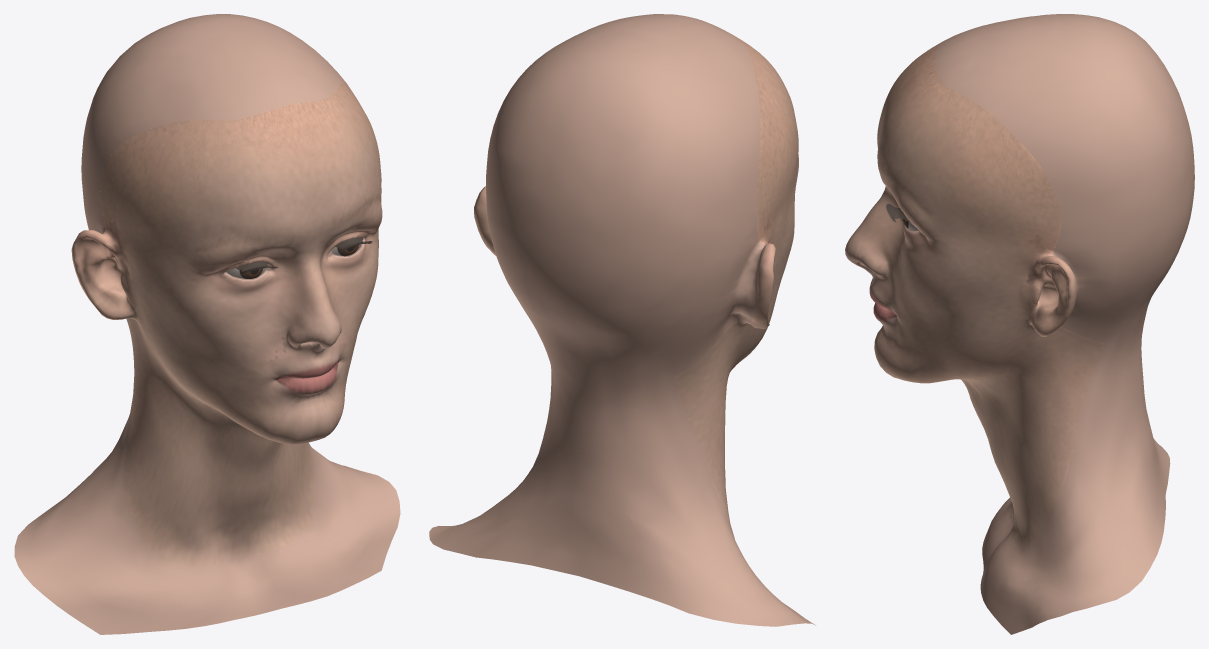
Rendered from headF.glb.
3 renders of one model, left to right at view 1: azimuth 30°, elevation 25°; view 2: azimuth 150°, elevation 25°; view 3: azimuth 270°, elevation 25°, orthographic. The views are drawn at different scales.
Parts seen in each view (by area): view 1: head; view 2: head; view 3: head.
Boxes of the visible parts, bbox=[...] form: head: bbox=[14, 14, 400, 634]; head: bbox=[429, 14, 815, 626]; head: bbox=[845, 14, 1194, 634].
Size of what is drawn, in the model's own units: 0.2452 by 0.3561 by 0.2074.
Materials: 11 (3 with a texture image).
